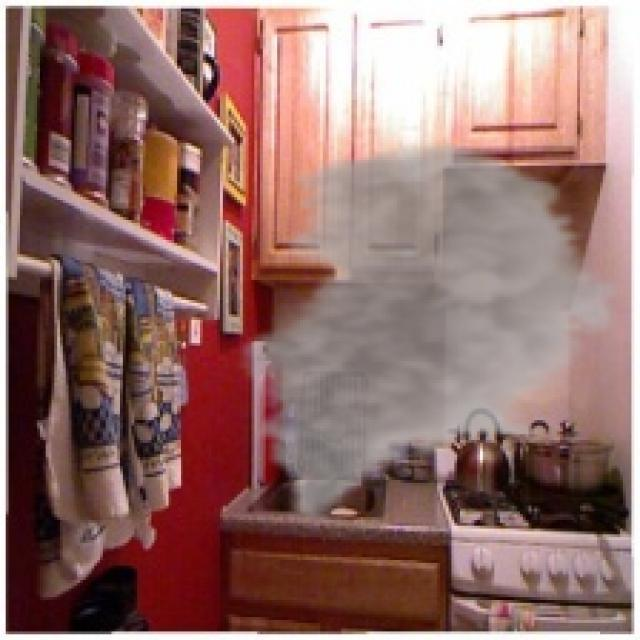Smoke: (228, 137, 632, 526)
